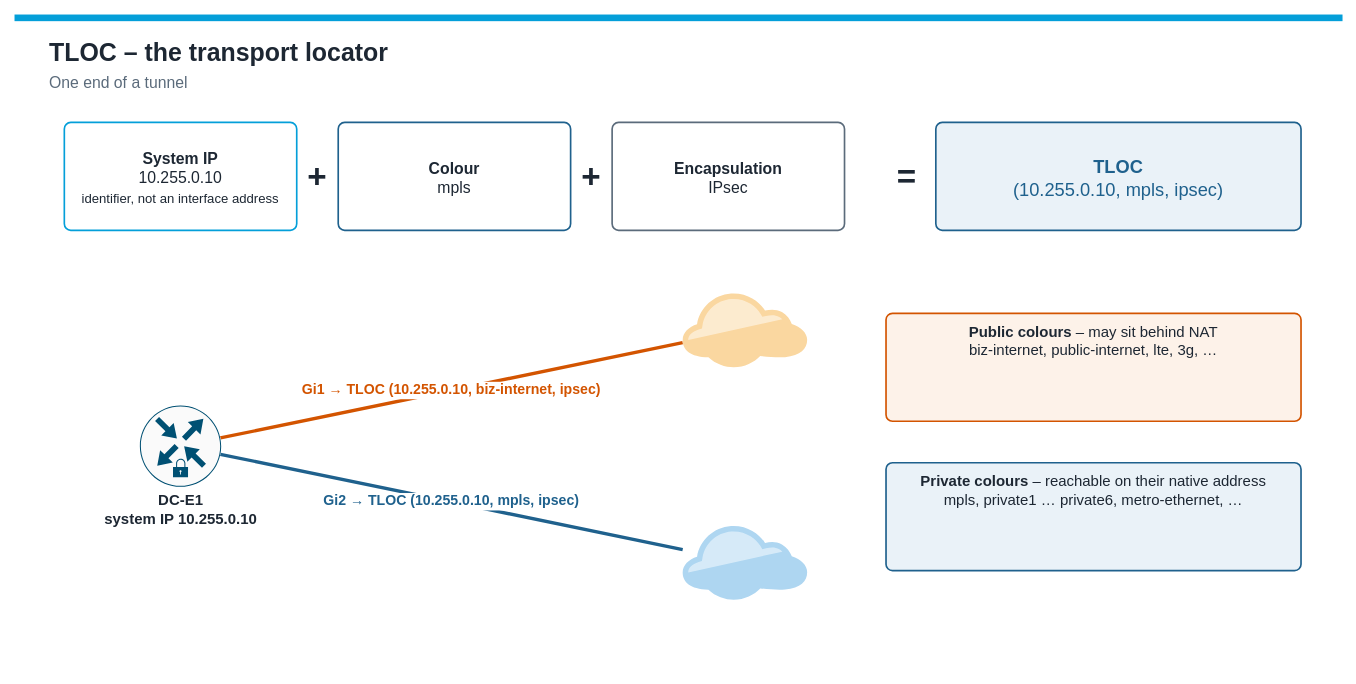
The diagram is 1356 pixels wide and 684 high, and some of its shapes have lost their labels. Each missing label, with the centre of its shape:
"INET" goes at (744,329).
"MPLS" goes at (744,562).
